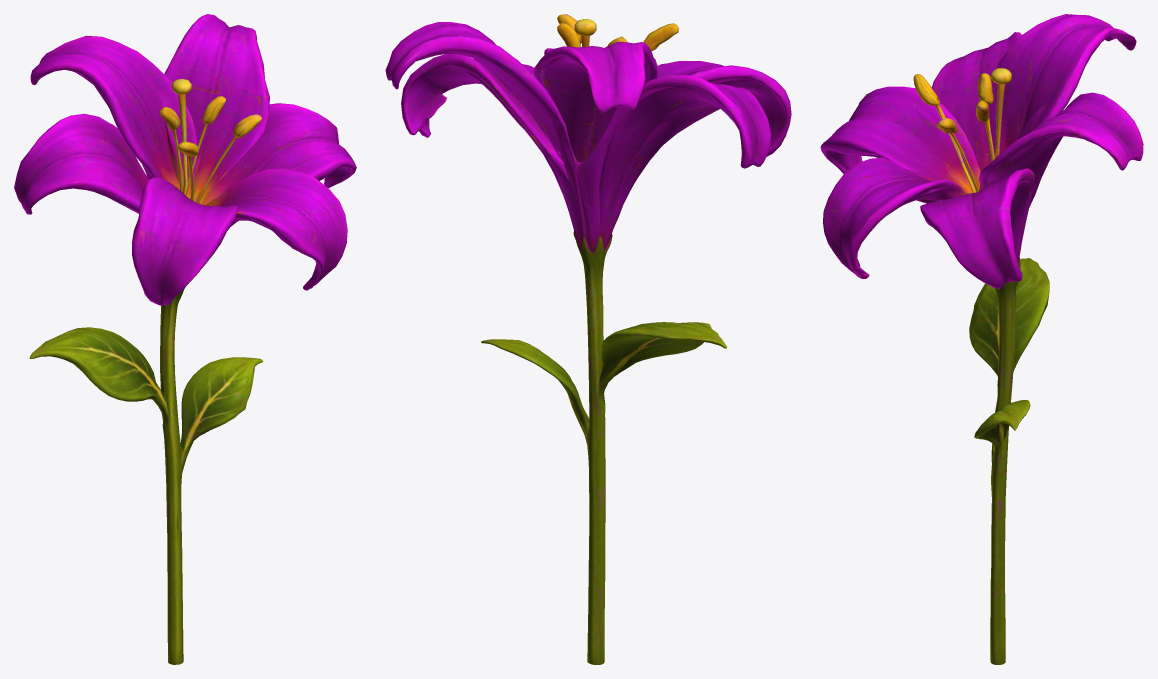
The model's file is lily_purple.glb.
3 views of the same model, side by side, from view 1: azimuth 30°, elevation 25°; view 2: azimuth 150°, elevation 25°; view 3: azimuth 270°, elevation 25° (orthographic). The views are drawn at different scales.
Visible parts, largest first — view 1: geometry_0; view 2: geometry_0; view 3: geometry_0.
Part boxes in pixels (bbox=[...]): geometry_0: bbox=[14, 14, 356, 664]; geometry_0: bbox=[385, 14, 791, 664]; geometry_0: bbox=[820, 14, 1143, 664].
Size of the model in its own units: 0.5356 by 0.9512 by 0.4536.
1 material, 1 textured.
